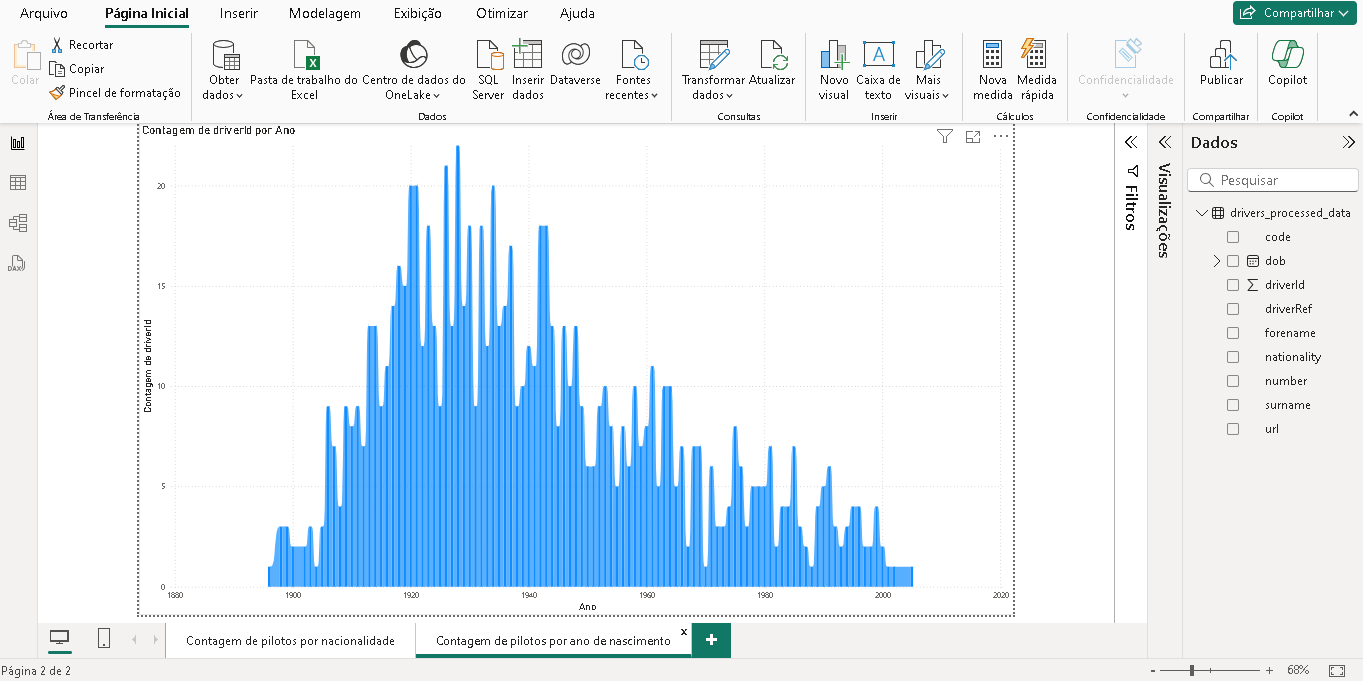

The page's visual inventory and layout, read from the dashboard file:
{"tool":"powerbi","page":{"name":"Contagem de  pilotos por ano de nascimento","canvas":[1280,720],"ordinal":1},"visuals":[{"type":"ribbonChart","fields":{"Category":["drivers_processed_data.dob.Variation.Hierarquia de datas.Ano"],"Y":["CountNonNull(drivers_processed_data.driverId)"]},"box":[0,0,1280,720.6],"z":0}]}

Visuals, with their boxes on the page's 1280x720 design canvas (x1, y1, x2, y2). These are canvas units, not pixel positions in the 1363x681 screenshot, which may show the page scaled, cropped or inside an application window:
ribbonChart - drivers_processed_data.dob.Variation.Hierarquia de datas.Ano x CountNonNull(drivers_processed_data.driverId): {"left": 0, "top": 0, "right": 1280, "bottom": 721}
